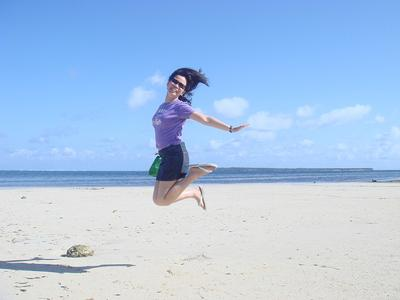person: (150, 68, 249, 210)
